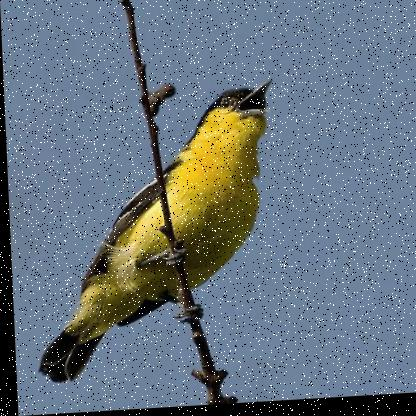Burung: (26, 81, 282, 383)
